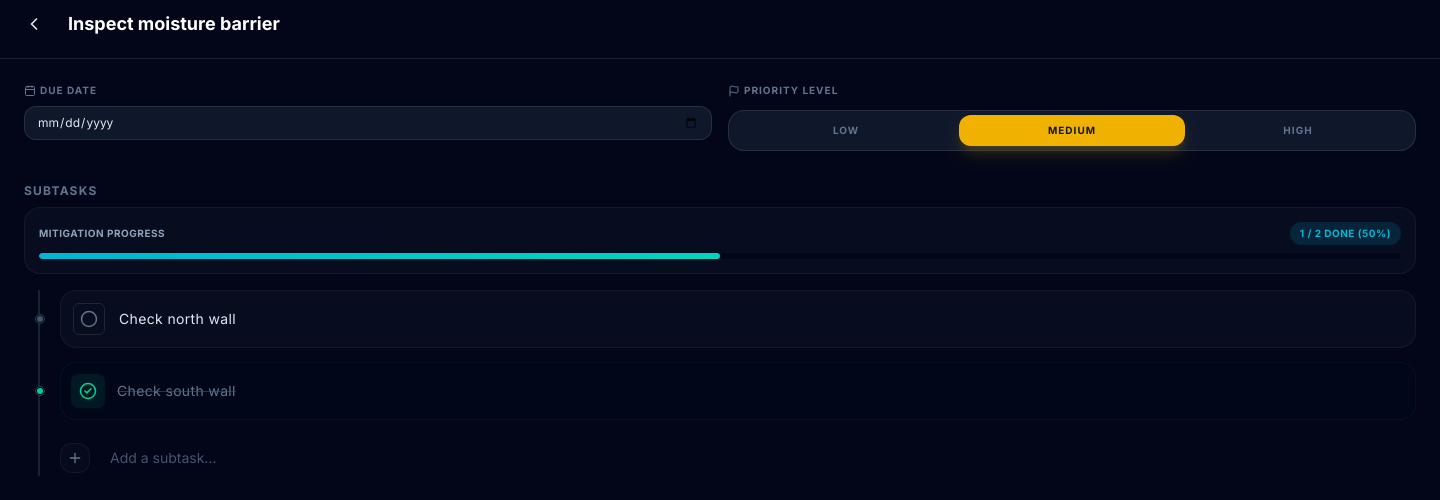
TaskDetailView › shows the "Add" button when subtask input has text
Type "Something" into the field with placeholder "Add a subtask..." at (759, 458), box top-left (102, 440), bottom-right (1416, 476)
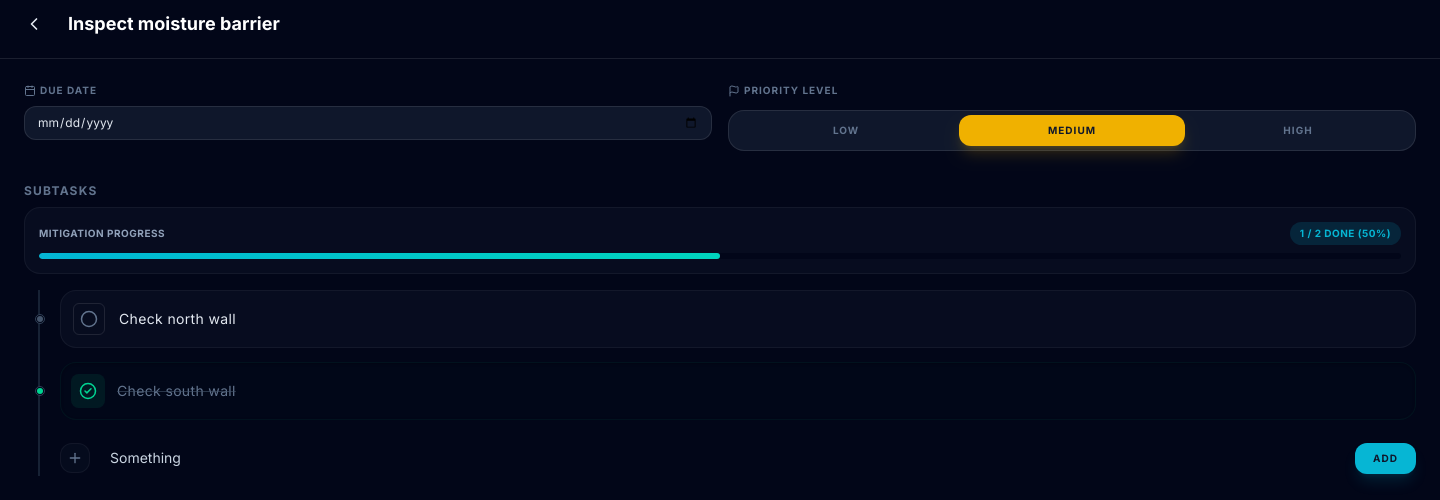
Expected: the button "Add" is shown, top-left (1355, 442), bottom-right (1416, 474)
